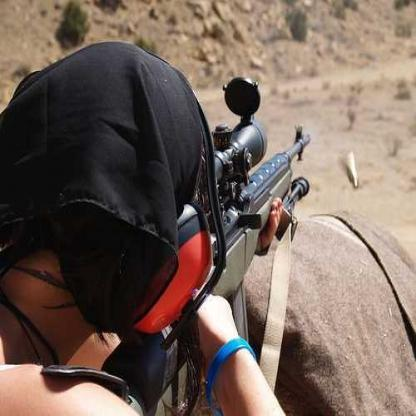Heavy Gun: (123, 125, 314, 368)
Person: (1, 53, 290, 416)
